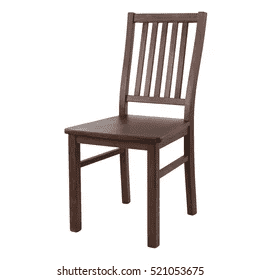chair: (68, 11, 212, 247)
